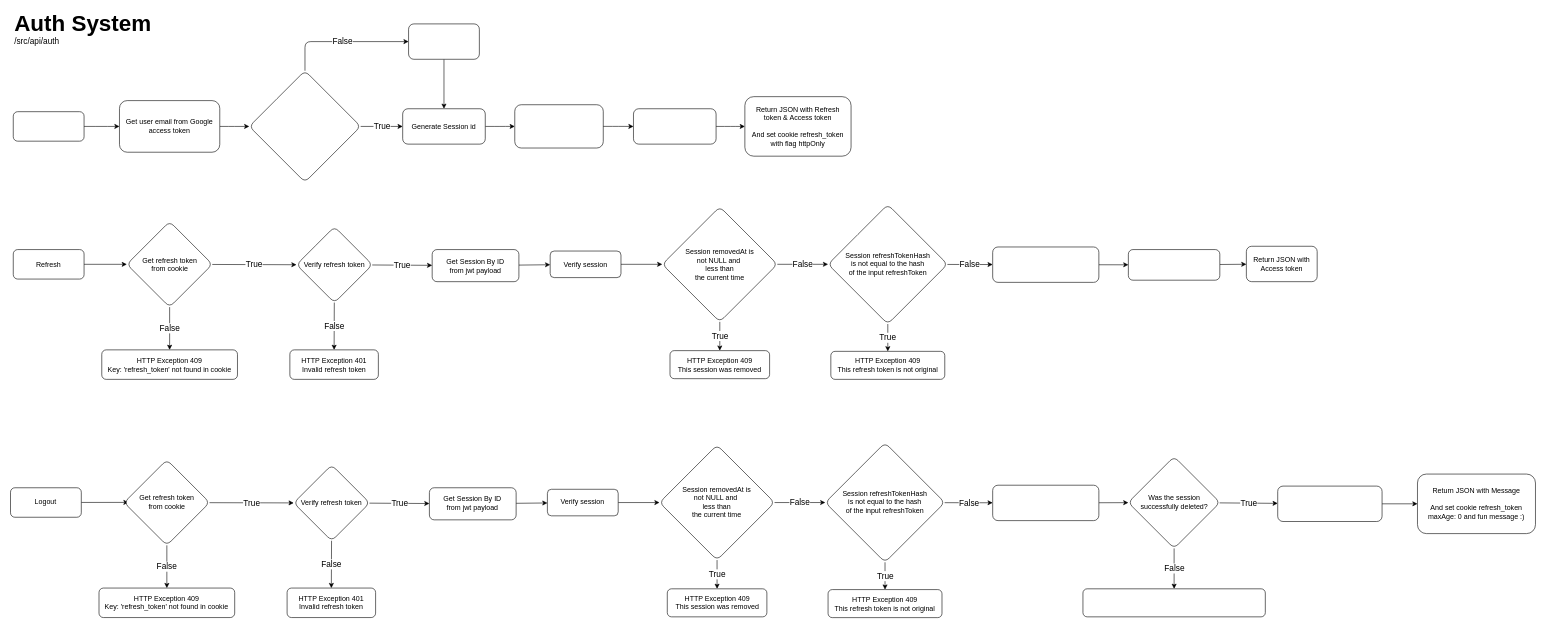
The diagram is 1546 pixels wide and 628 high, and some of its shapes have lost their labels. The shapes that lost their labels are listed below. From the top down, each one's centre as x and y in pixels, then its label:
At point (443, 41): "Create a new User".
At point (48, 126): "Login by google".
At point (305, 126): "Checking whether a user with this address exists ?".
At point (558, 126): "Generate Refresh token Generate Access token".
At point (674, 126): "Create a new session".
At point (1045, 264): "Update Session SET updatedAt to current Date".
At point (1174, 264): "Generate Access token".
At point (1045, 503): "Update Session SET removedAt to current Date".
At point (1329, 504): "Return message Session successfully deleted".
At point (1173, 602): "HTTP Exception 500 Could not find a session using the given refreshToken".
